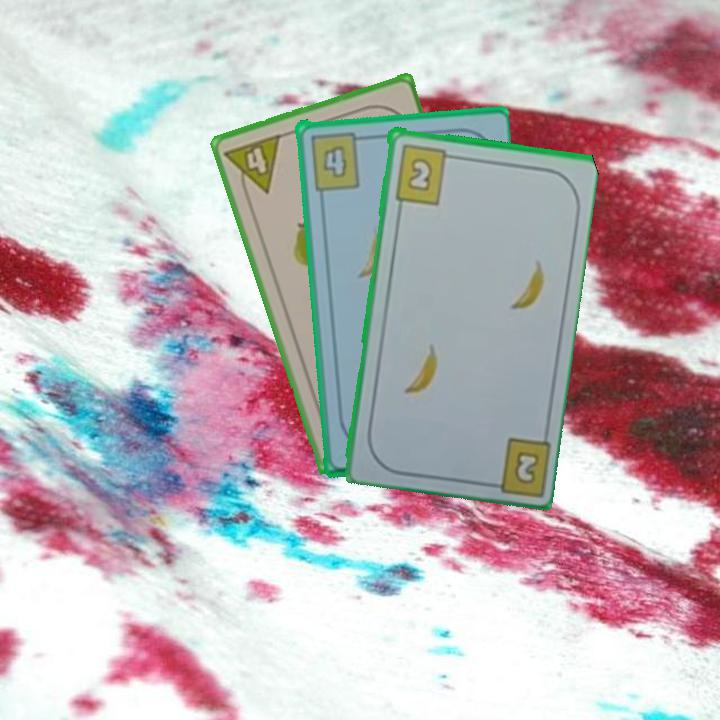2b: (479, 433, 551, 496), (391, 140, 458, 207)
4b: (306, 128, 369, 192)
4p: (220, 130, 284, 202)
